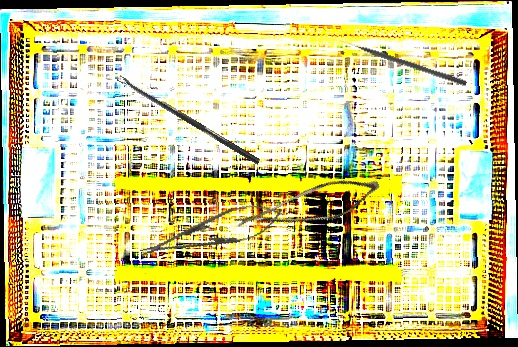Micro Scissor: (230, 155, 385, 261)
Needle Holder: (135, 194, 288, 270)
Pusher: (339, 36, 468, 87)
Surgical Spoon: (116, 74, 262, 165)
